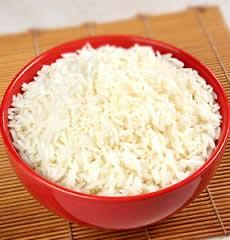WhiteRice: (8, 41, 223, 196)
